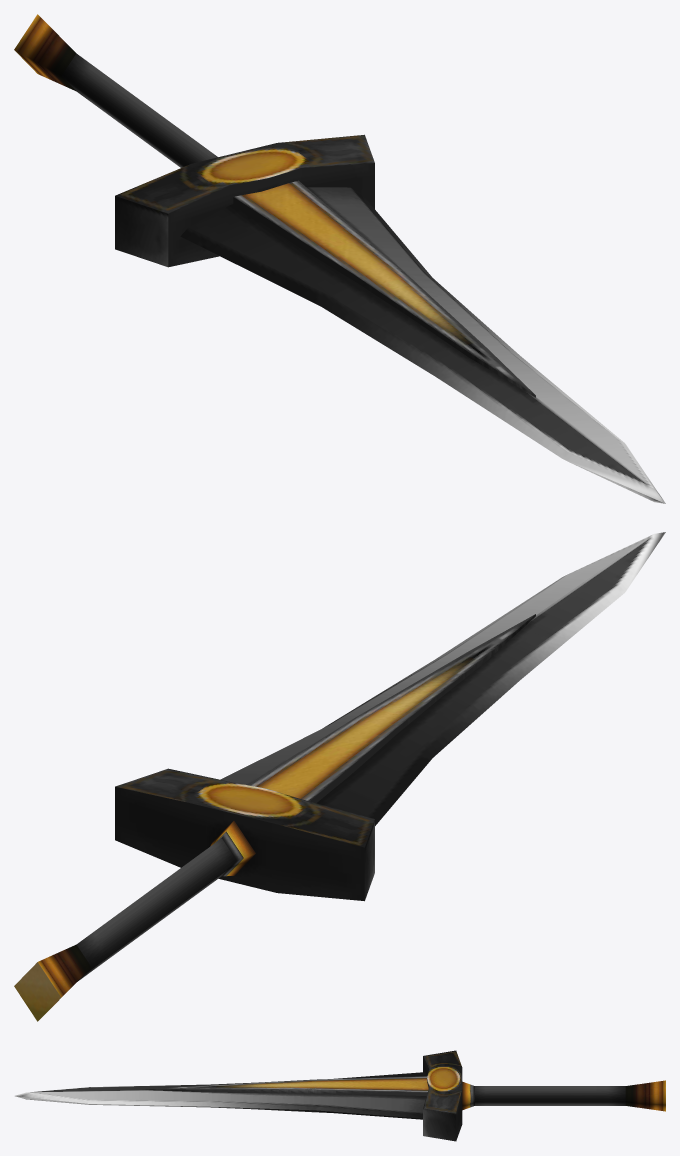
The model's file is blade0017.fbx.
3 views of the same model, one above another, from view 1: azimuth 30°, elevation 25°; view 2: azimuth 150°, elevation 25°; view 3: azimuth 270°, elevation 25° (orthographic). The views are drawn at different scales.
Visible parts, largest first — view 1: blade0017_m; view 2: blade0017_m; view 3: blade0017_m.
Boxes of the visible parts, x1=… form: blade0017_m: x1=14, y1=14, x2=665, y2=503; blade0017_m: x1=14, y1=532, x2=665, y2=1021; blade0017_m: x1=15, y1=1050, x2=665, y2=1141.
Bounding box in the file's own units: 0.324 × 0.0852 × 1.41.
